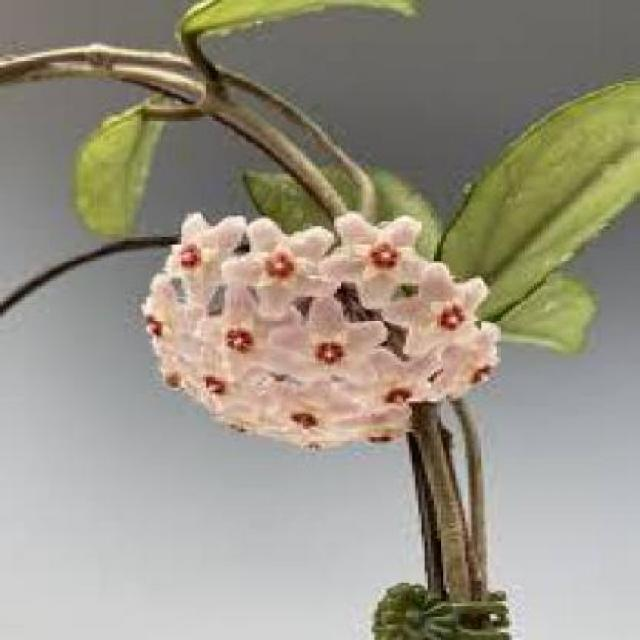flower: (142, 192, 510, 463)
